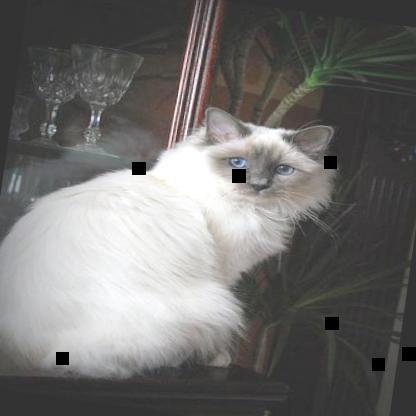cat: (0, 78, 344, 415)
